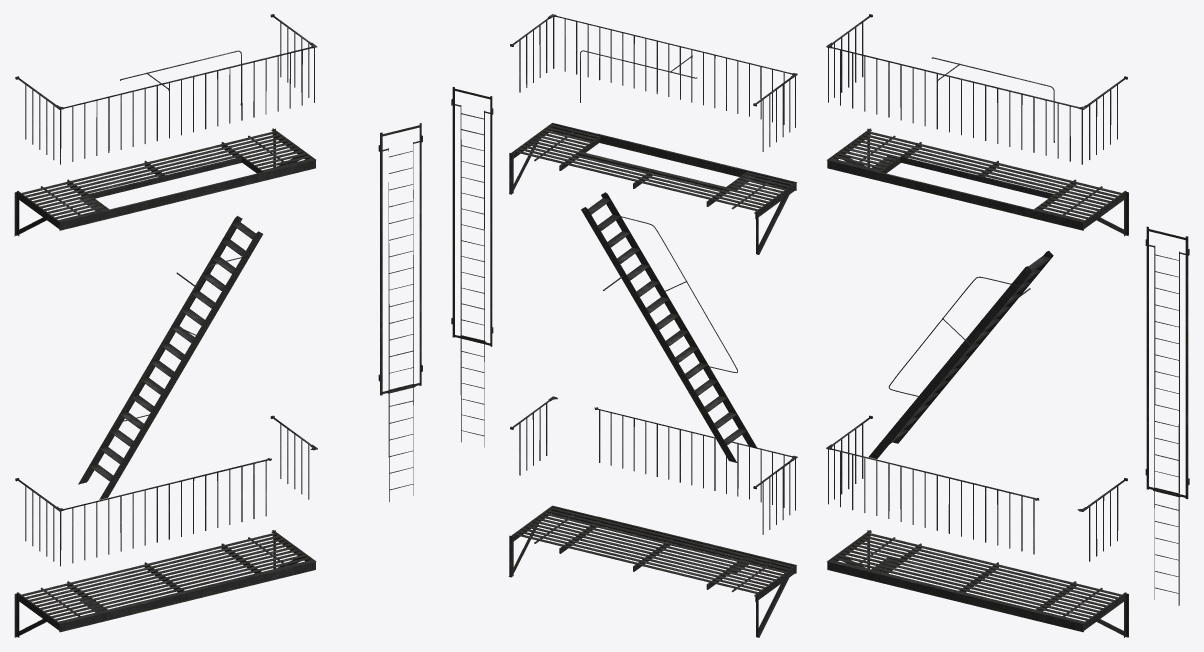
File: fire_escape.glb
The picture shows the model from 3 angles, left to right: view 1: azimuth 30°, elevation 25°; view 2: azimuth 150°, elevation 25°; view 3: azimuth 330°, elevation 25°; orthographic projection. The views are drawn at different scales.
Parts seen in each view (by area): view 1: modular_fire_escape_platform_bottom, modular_fire_escape_platform_middle, modular_fire_escape_stairs, modular_fire_escape_railing_middle, modular_fire_escape_railing_bottom, modular_fire_escape_ladder_bottom; view 2: modular_fire_escape_platform_bottom, modular_fire_escape_platform_middle, modular_fire_escape_stairs, modular_fire_escape_railing_middle, modular_fire_escape_ladder_bottom, modular_fire_escape_railing_bottom; view 3: modular_fire_escape_platform_bottom, modular_fire_escape_platform_middle, modular_fire_escape_stairs, modular_fire_escape_ladder_bottom, modular_fire_escape_railing_middle, modular_fire_escape_railing_bottom.
Part boxes in pixels (<box>): modular_fire_escape_platform_bottom: <box>14,530,316,637</box>; modular_fire_escape_platform_middle: <box>14,128,315,236</box>; modular_fire_escape_stairs: <box>78,216,263,499</box>; modular_fire_escape_railing_middle: <box>15,14,317,164</box>; modular_fire_escape_railing_bottom: <box>15,415,317,566</box>; modular_fire_escape_ladder_bottom: <box>378,123,422,501</box>; modular_fire_escape_platform_bottom: <box>509,505,796,637</box>; modular_fire_escape_platform_middle: <box>509,123,796,254</box>; modular_fire_escape_stairs: <box>581,192,757,462</box>; modular_fire_escape_railing_middle: <box>510,14,797,151</box>; modular_fire_escape_ladder_bottom: <box>451,87,493,447</box>; modular_fire_escape_railing_bottom: <box>510,396,797,534</box>; modular_fire_escape_platform_bottom: <box>827,530,1128,637</box>; modular_fire_escape_platform_middle: <box>827,128,1128,236</box>; modular_fire_escape_stairs: <box>868,251,1053,458</box>; modular_fire_escape_ladder_bottom: <box>1145,226,1189,605</box>; modular_fire_escape_railing_middle: <box>826,14,1127,164</box>; modular_fire_escape_railing_bottom: <box>826,415,1127,561</box>.
Size of the model in its own units: 6.66 by 9.76 by 1.42.
3 materials, 3 textured.
